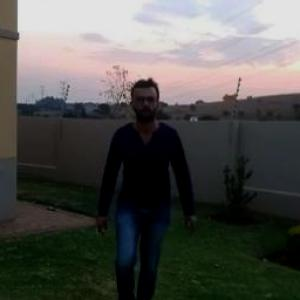follow: (101, 81, 184, 299)
